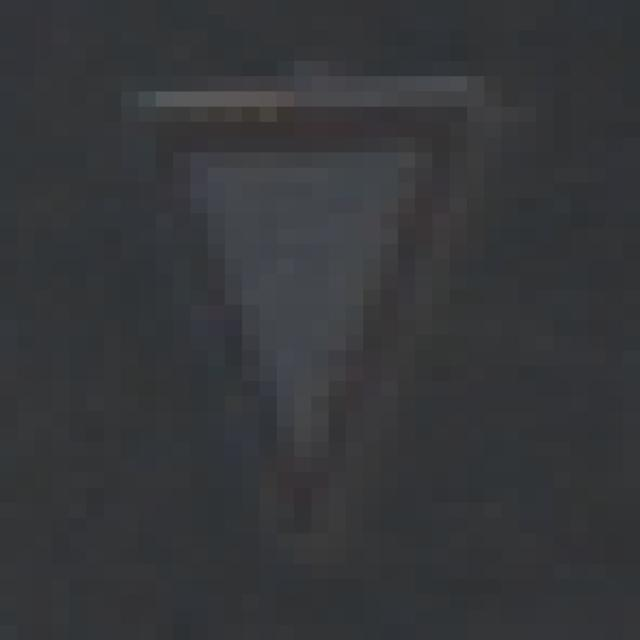Give Way: (88, 77, 555, 565)
